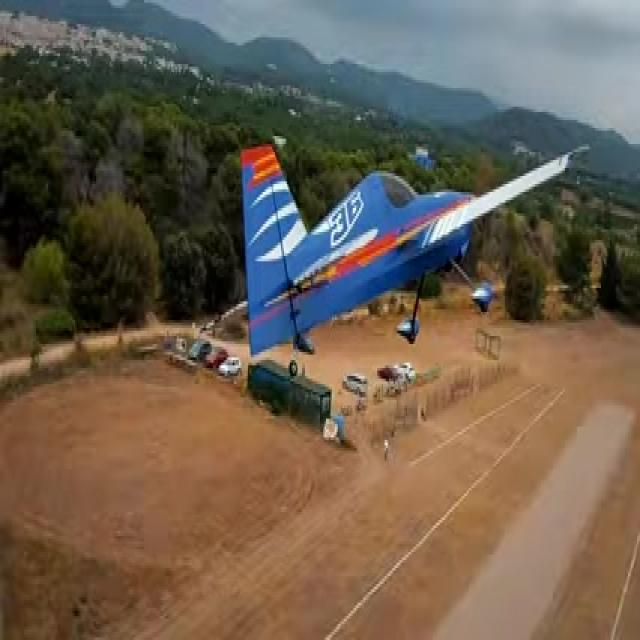iha: (234, 140, 593, 366)
